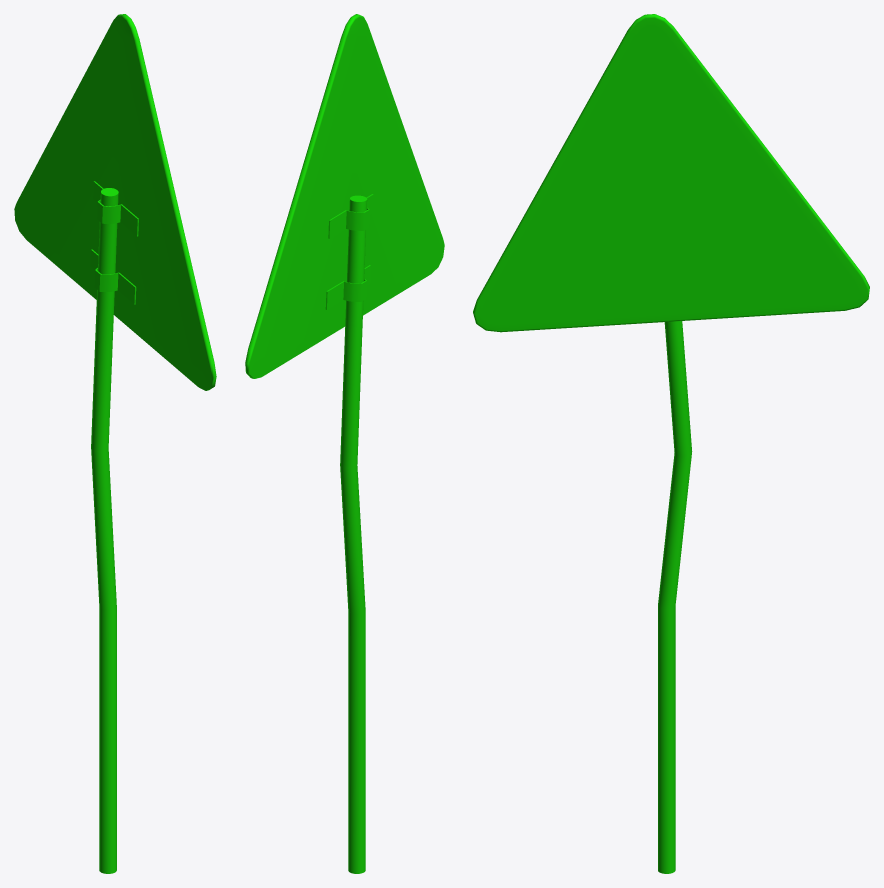
Rendered from RoadsignDestroyed.fbx.
3 renders of one model, left to right at view 1: azimuth 30°, elevation 25°; view 2: azimuth 150°, elevation 25°; view 3: azimuth 270°, elevation 25°, orthographic.
Visible parts, largest first — view 1: Cylinder; view 2: Cylinder; view 3: Cylinder.
Boxes of the visible parts, x1=… form: Cylinder: x1=14, y1=14, x2=216, y2=873; Cylinder: x1=245, y1=14, x2=444, y2=873; Cylinder: x1=473, y1=14, x2=869, y2=873.
Size of the model in its own units: 6.34 by 238 by 99.28.
